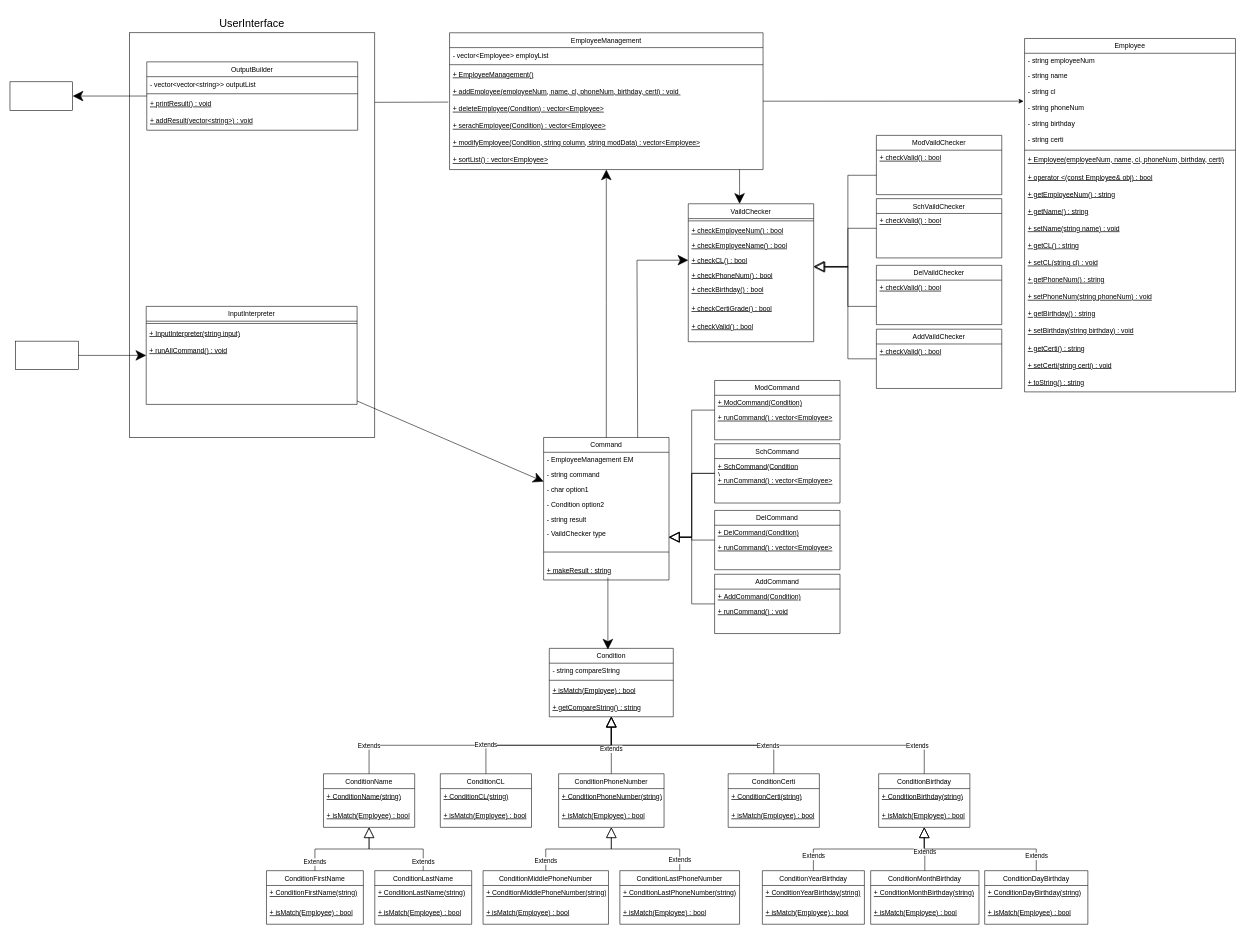
This 1245x935 diagram has some shape labels left out. Here are the shapes that lost their labels. From the top down, the centre of each, then its label:
At pixel 41 95: "Output".
At pixel 46 355: "Input".
